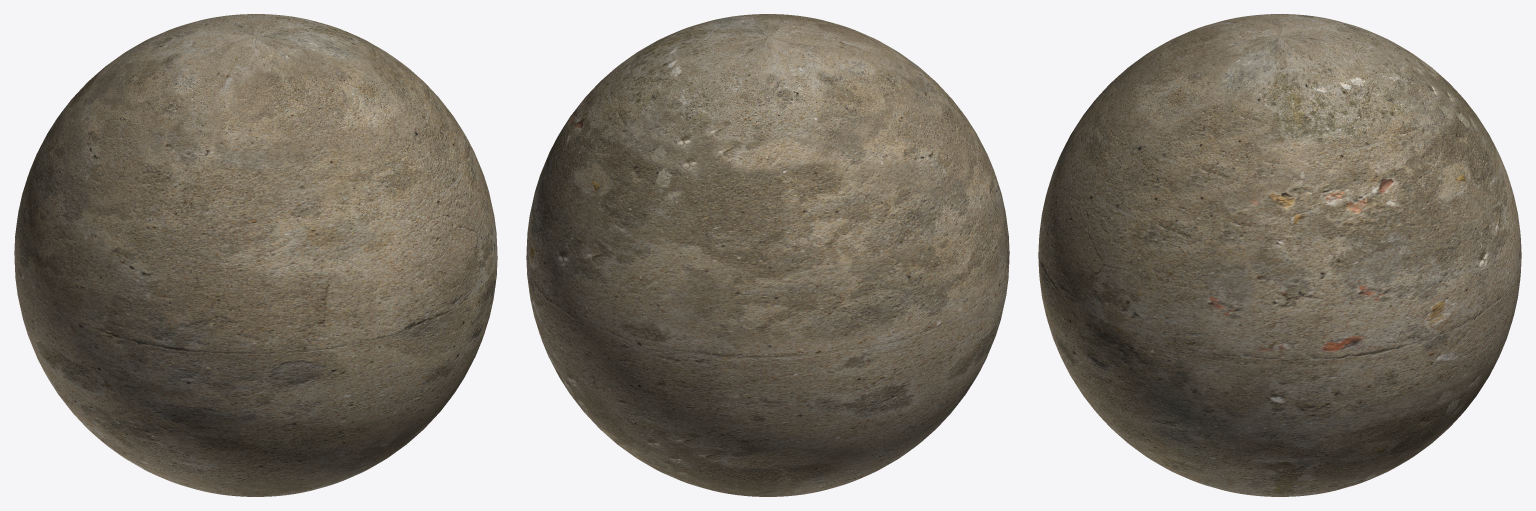
File: grayplanetCopy.glb
3 views of the same model, side by side, from view 1: azimuth 30°, elevation 25°; view 2: azimuth 150°, elevation 25°; view 3: azimuth 270°, elevation 25° (orthographic).
Parts seen in each view (by area): view 1: Sphere; view 2: Sphere; view 3: Sphere.
Boxes of the visible parts, left/top/right/bottom form: Sphere: left=14, top=14, right=497, bottom=496; Sphere: left=526, top=14, right=1009, bottom=496; Sphere: left=1038, top=14, right=1521, bottom=496.
Bounding box in the file's own units: 8 × 8 × 8.
1 material, 1 textured.
